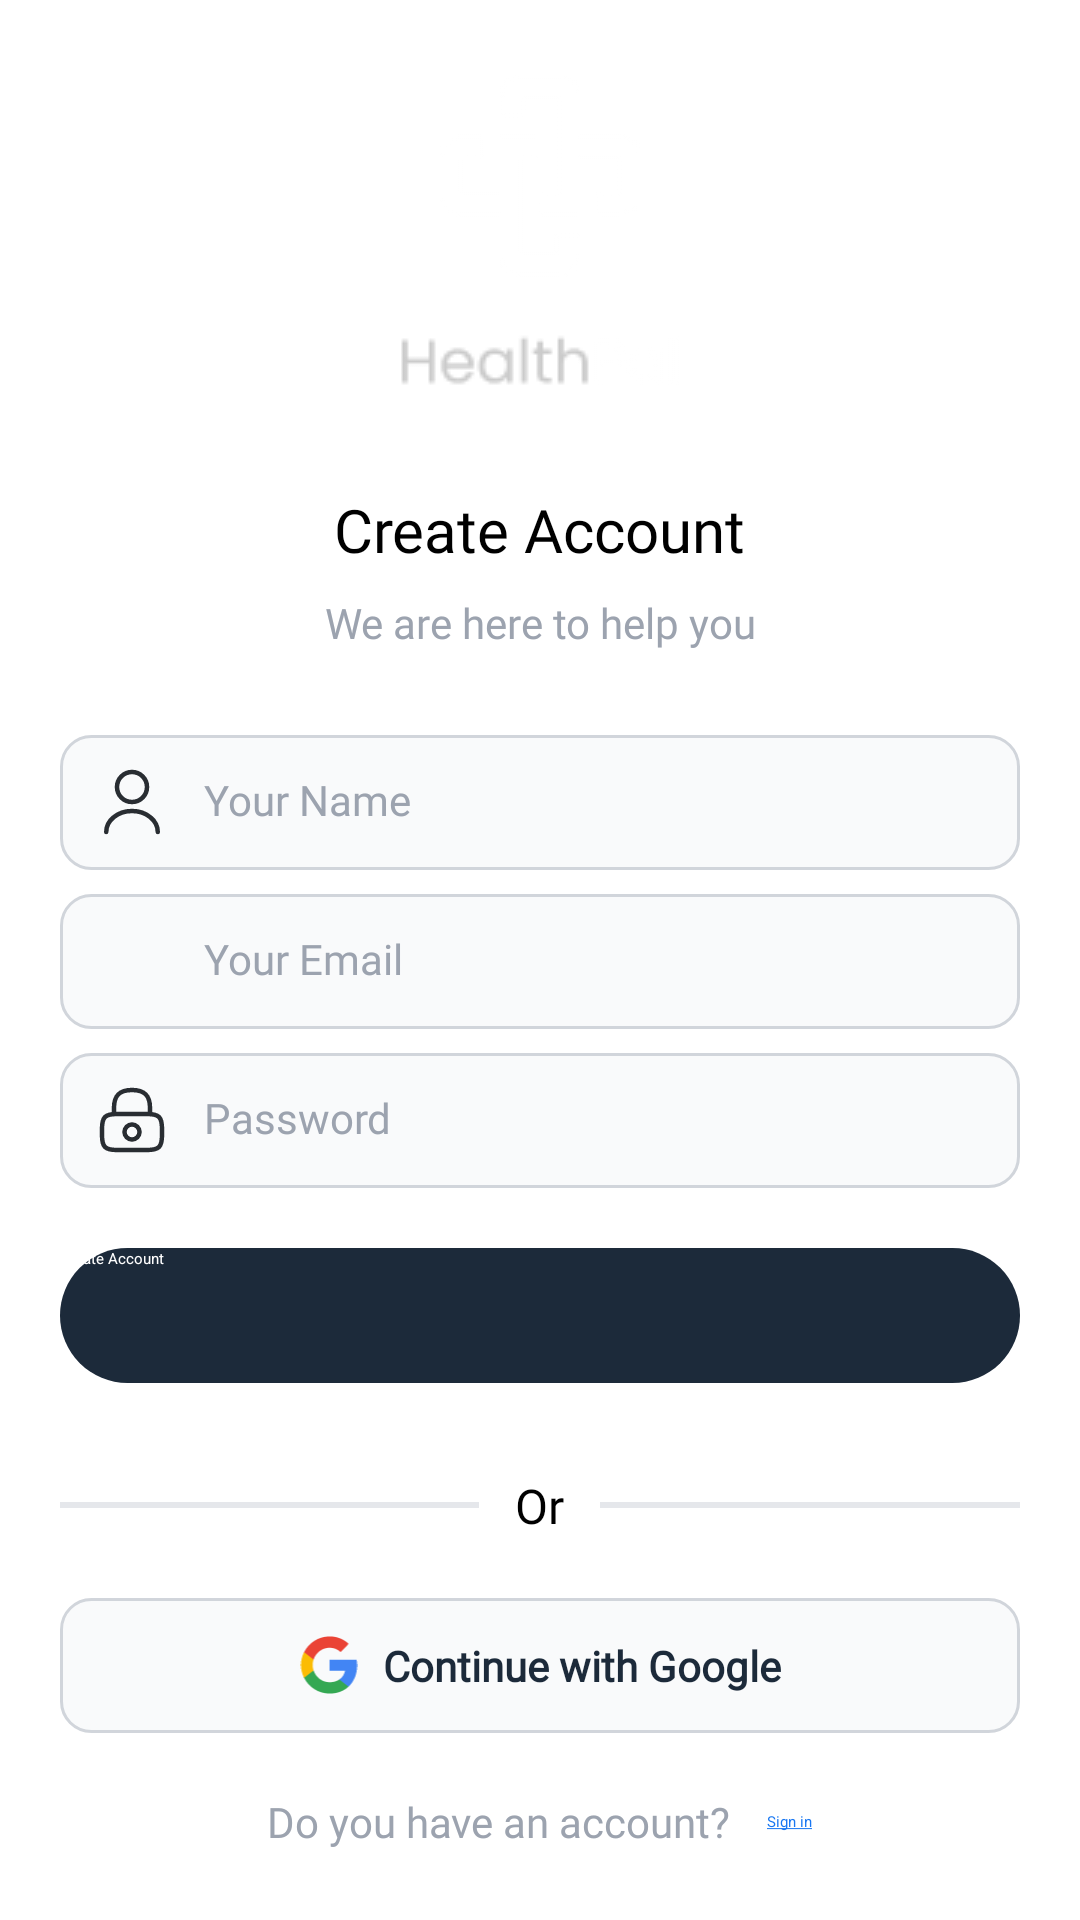

Icons on this 1080px x 1920px Android screen, each with its box as (x1, y1, x2, y2):
user: (104, 769, 160, 835)
